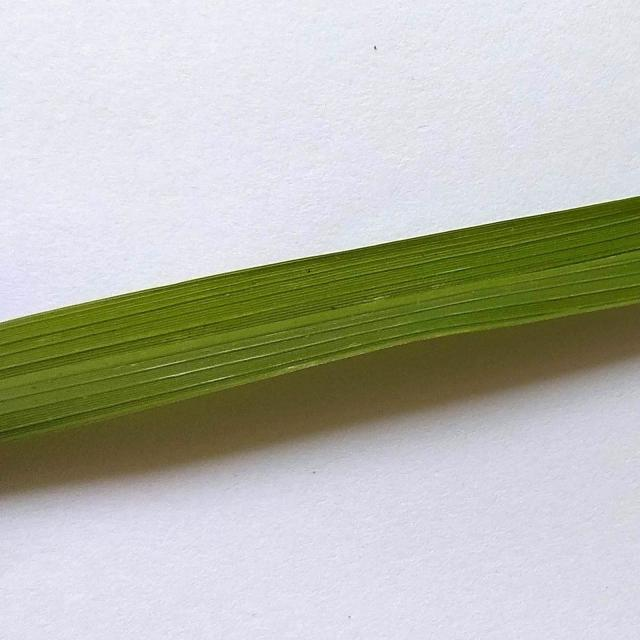healthy: (0, 150, 640, 469)
